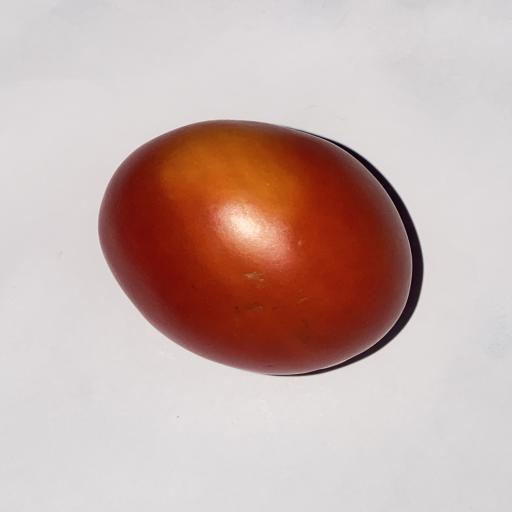ripe: (99, 120, 412, 374)
